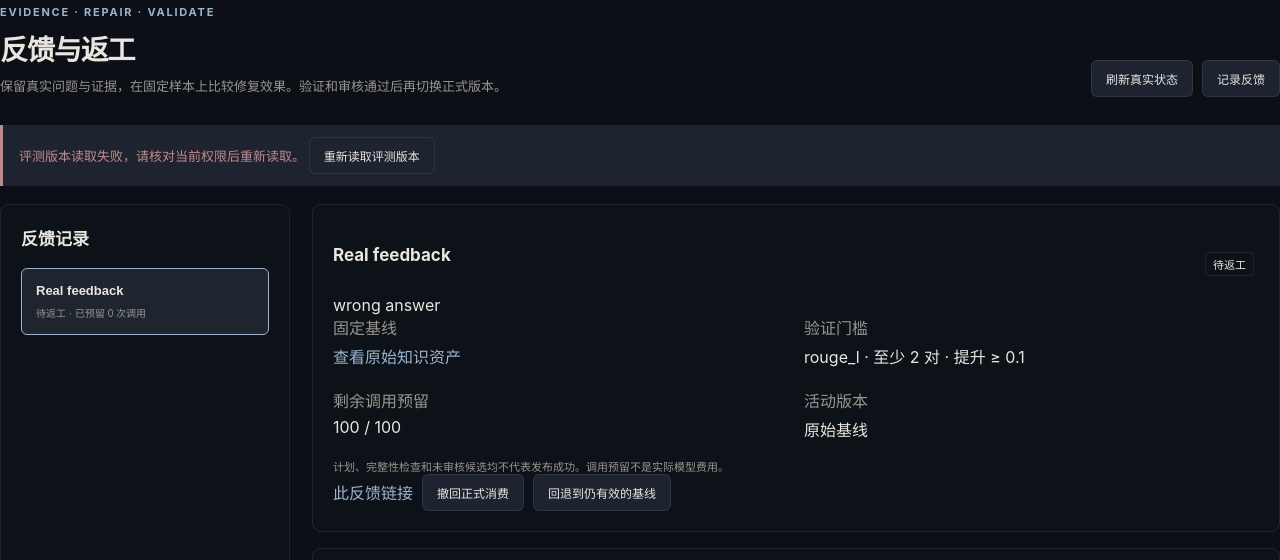
Scenario: feedback evidence workflow › loads an authorized case deep link even when its independent version selector fails
This screenshot has width=1280, height=560.
Click the button "重新读取评测版本".
click(372, 155)  # box [309,137,435,174]
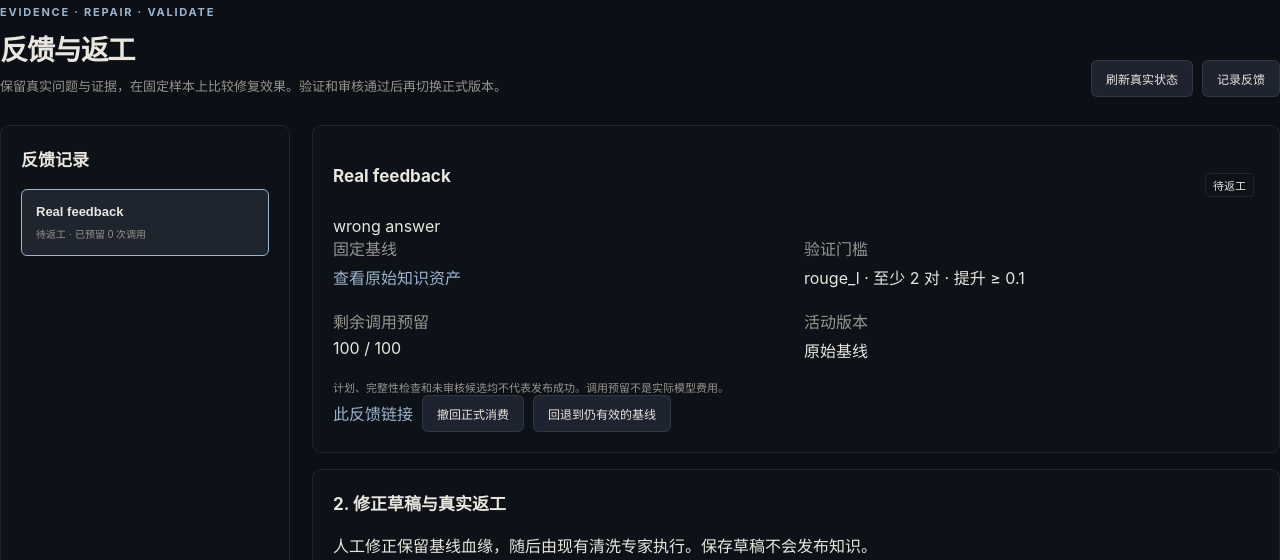
Expected: the text "Real feedback" is shown, [36,204,123,219]
Expected: the text "评测版本读取失败" is gone
